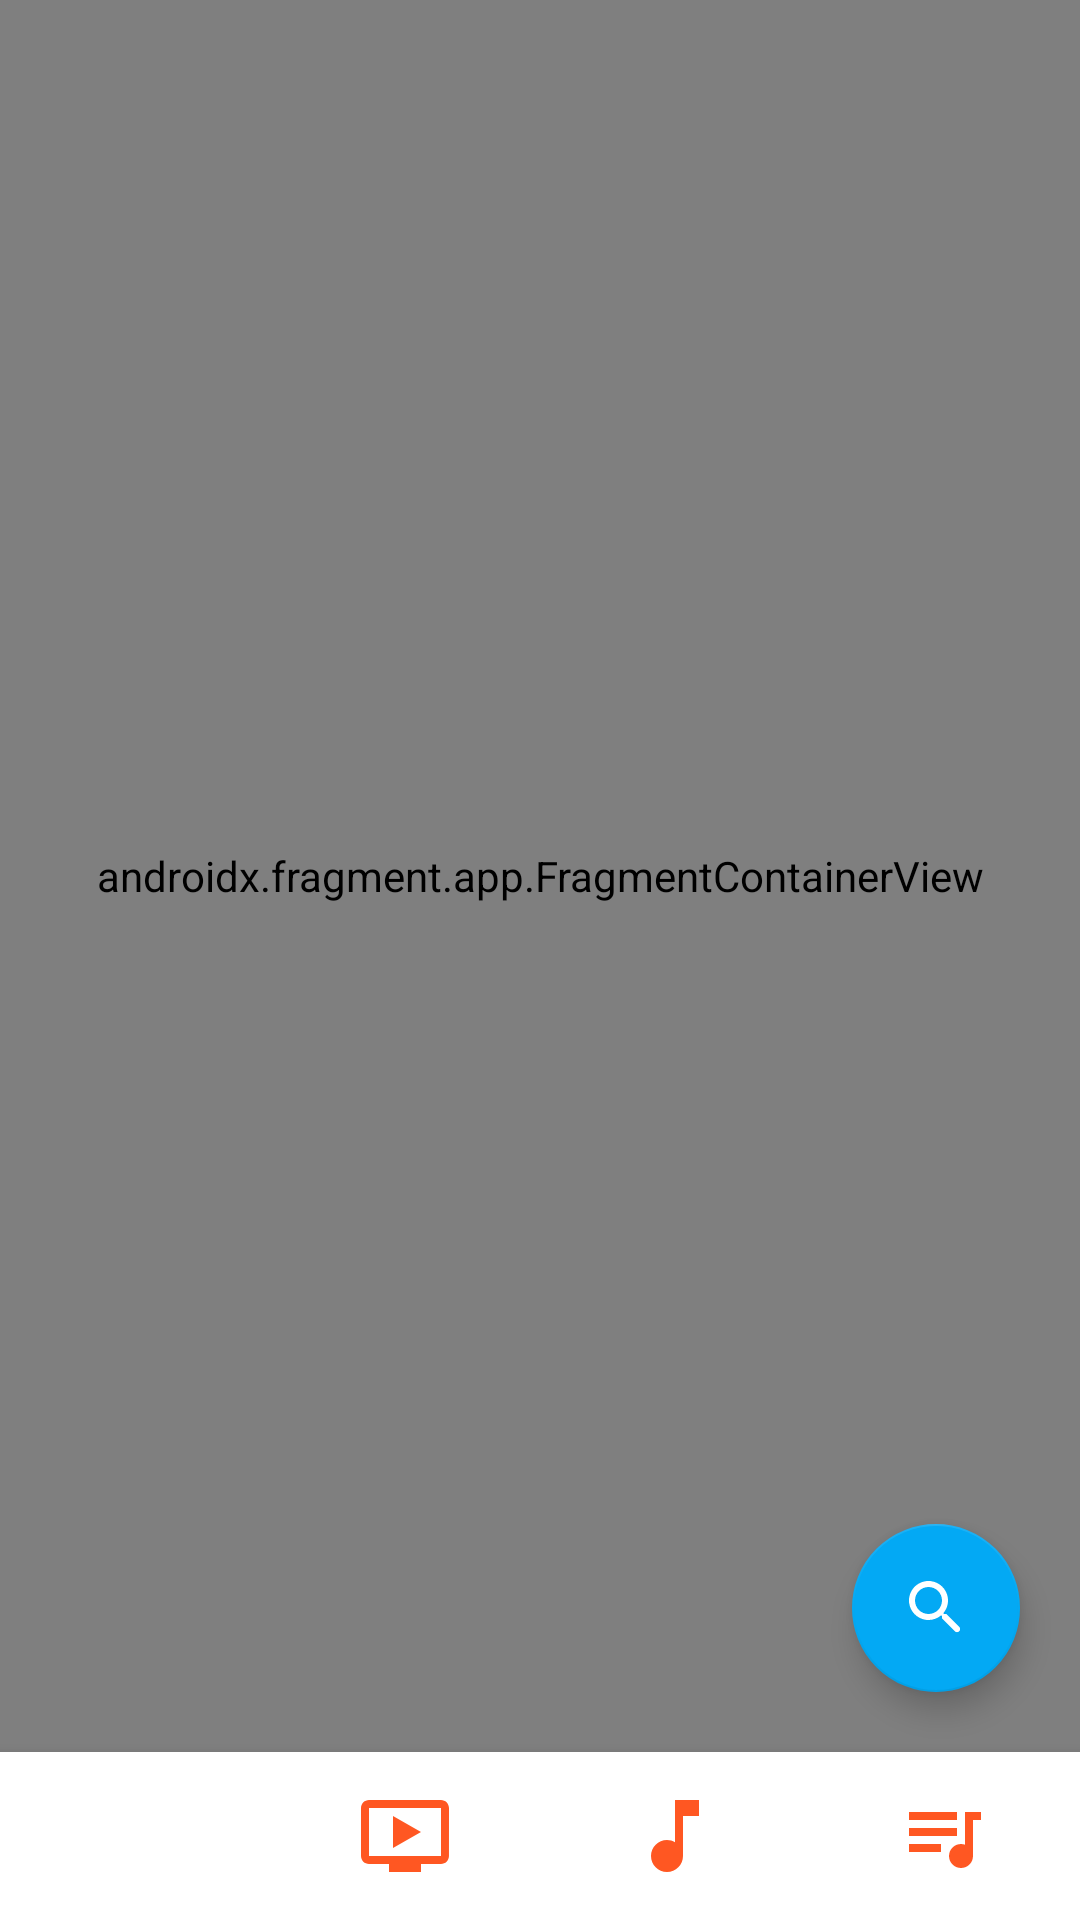

Point at icon controls on the screen. Image size 1080px×1920px, points as (x,y).
Search: (936,1608)
